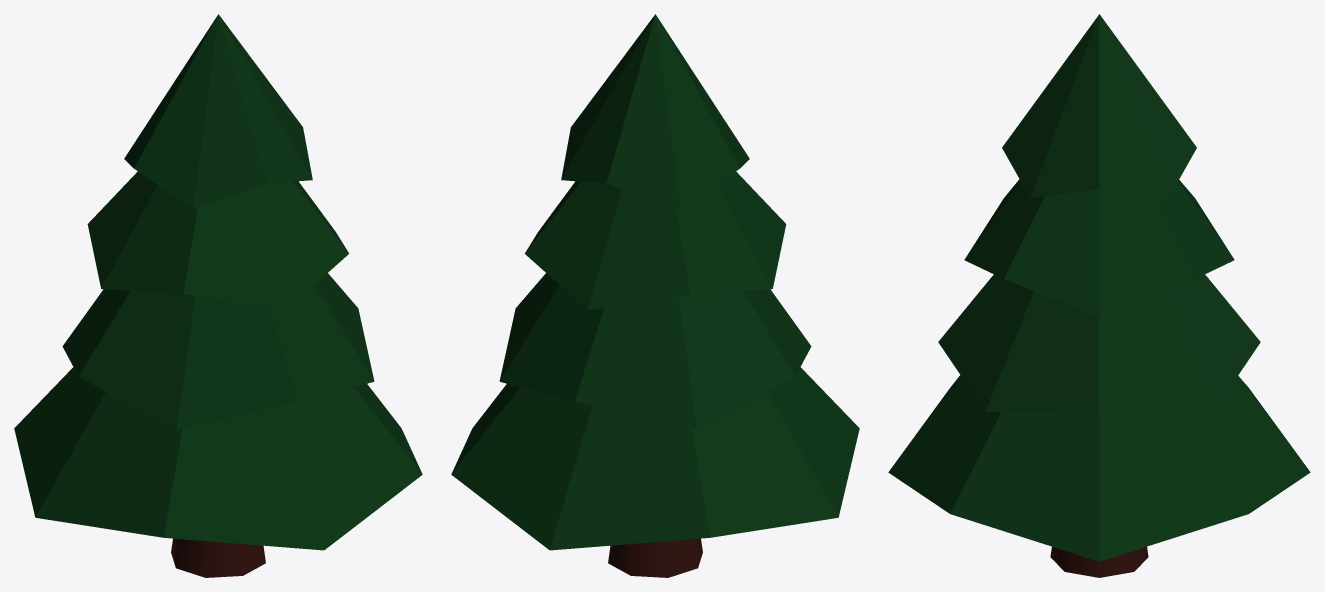
File: PineTree.FBX
The picture shows the model from 3 angles, left to right: view 1: azimuth 30°, elevation 25°; view 2: azimuth 150°, elevation 25°; view 3: azimuth 270°, elevation 25°; orthographic projection.
Visible parts, largest first — view 1: Cylinder001; view 2: Cylinder001; view 3: Cylinder001.
Part boxes in pixels (box(x1,y1,x2,y2)): Cylinder001: box(14, 14, 422, 577); Cylinder001: box(451, 14, 859, 577); Cylinder001: box(888, 14, 1310, 577).
Size of the model in its own units: 169 by 240 by 169.
